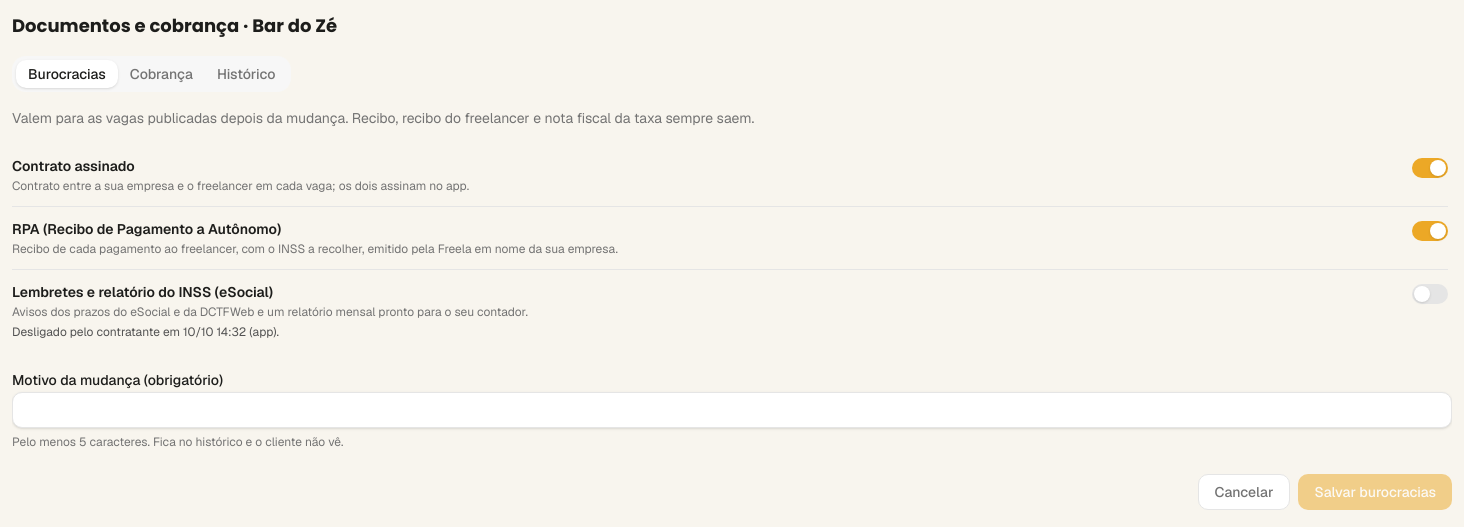
Test: PreferencesDialog — aba Burocracias › 422 REASON_REQUIRED aparece no campo
Click the switch named "Contrato assinado" in the row of "Contrato assinado" at [1430, 168], box 1412,158 -> 1448,178
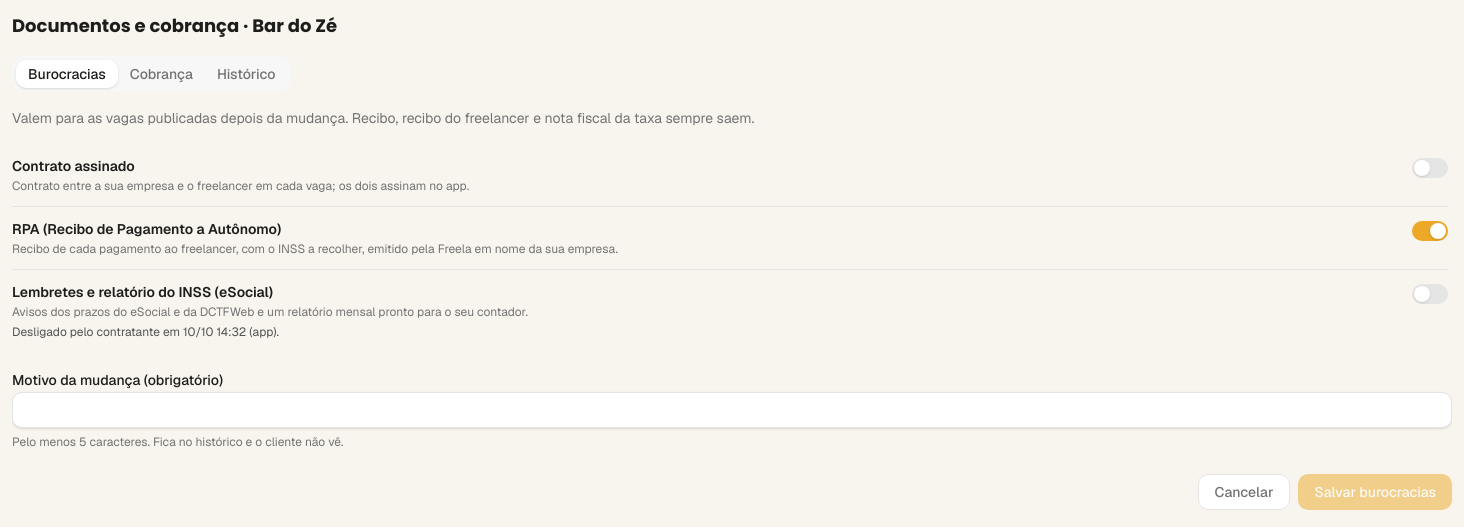
Type "Motivo ok" into the field labelled "Motivo da mudança (obrigatório)" at [732, 410], box 12,392 -> 1452,428
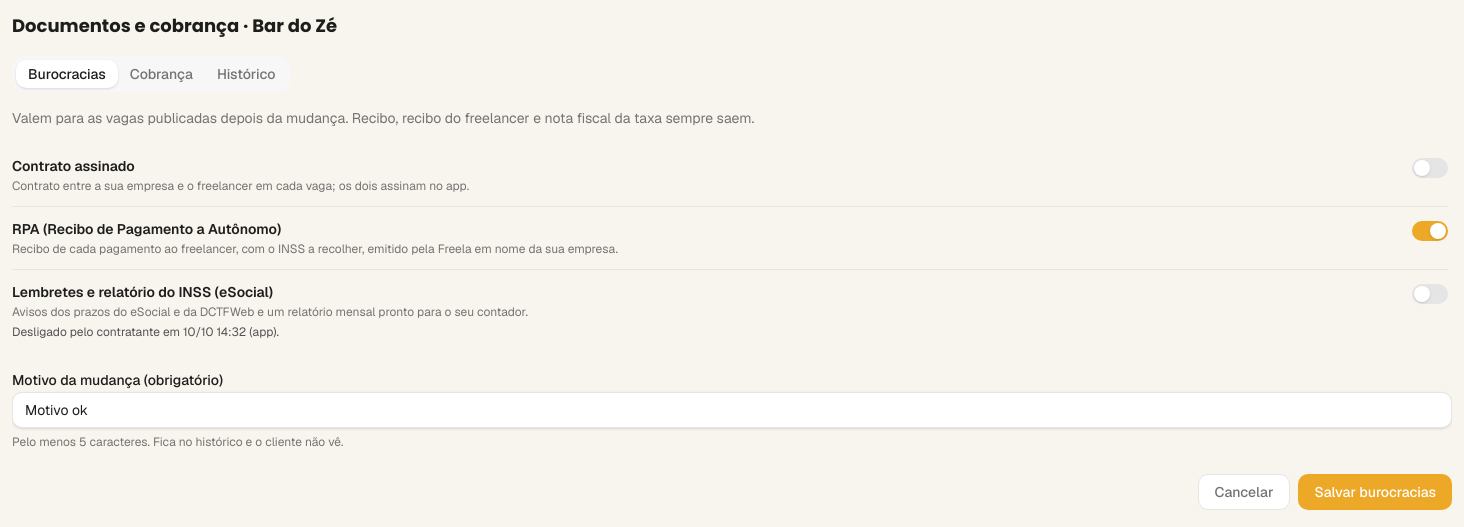
Click the button "Salvar burocracias" at [1375, 492], box 1298,474 -> 1452,510
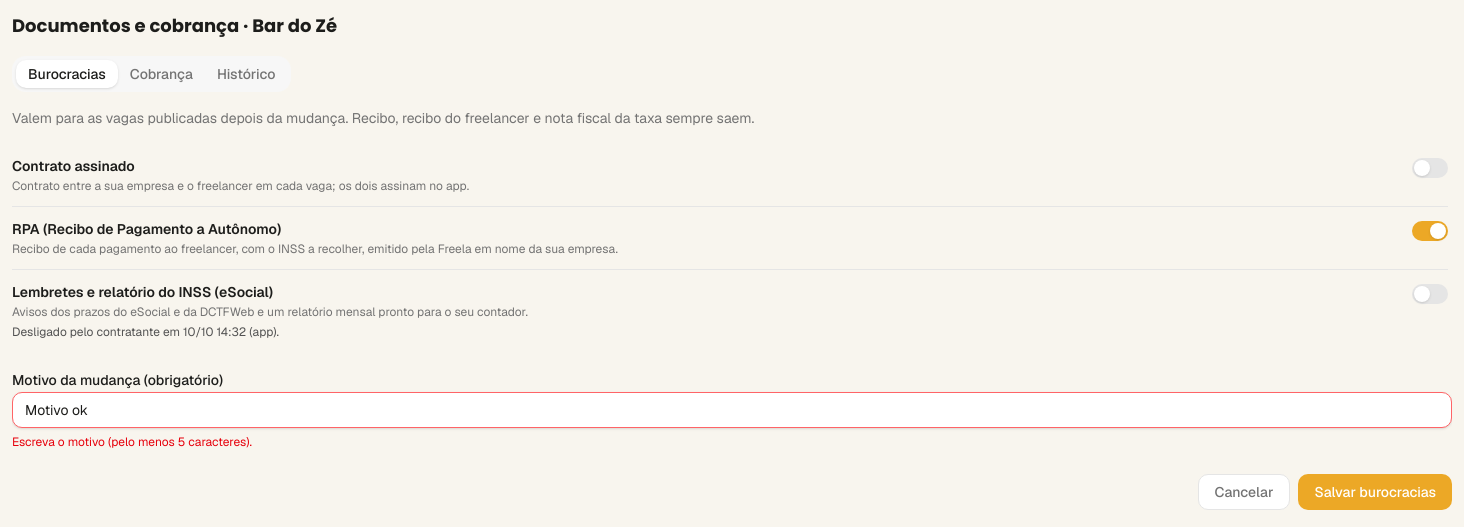
Check: the text "Escreva o motivo (pelo menos 5 caracteres)." is shown, box 12,434 -> 252,450
